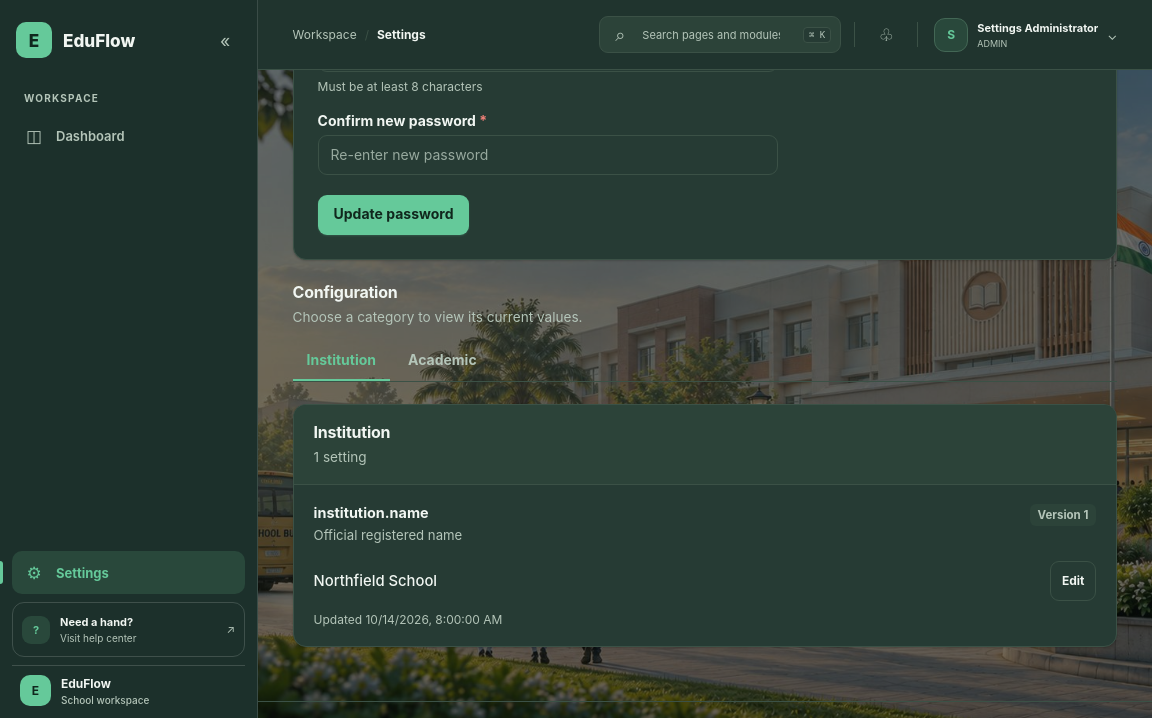
it: Settings workspace › loads existing settings and switches categories
(page scrolled)
Expected: the text "Northfield School" is shown, [314, 572, 437, 590]
Click the tab "Academic": (442, 360) [394, 339, 491, 381]
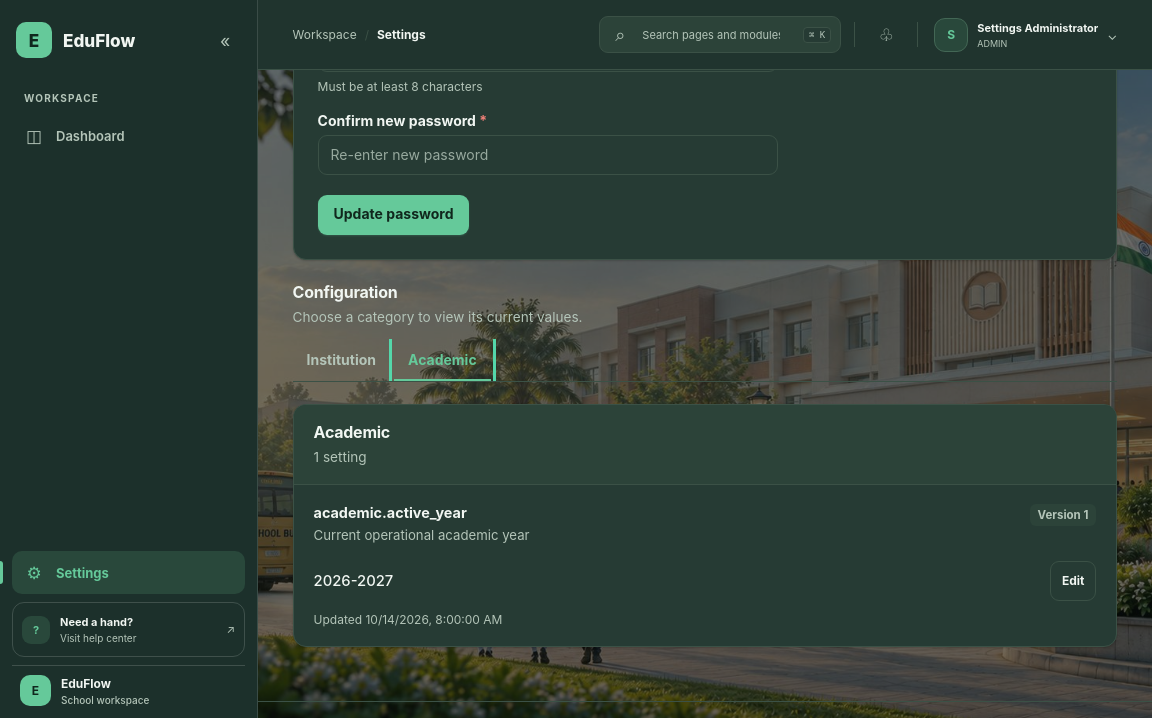
Result: the text "2026-2027" is shown at [314, 572, 393, 590]
